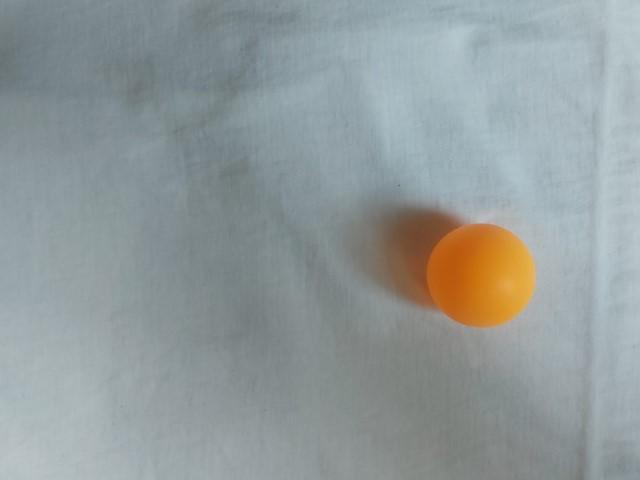oball: (96, 144, 221, 262)
